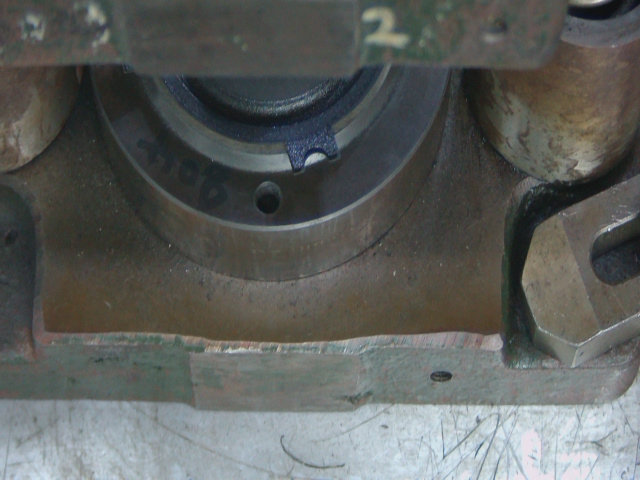HX2: (288, 120, 351, 185)
